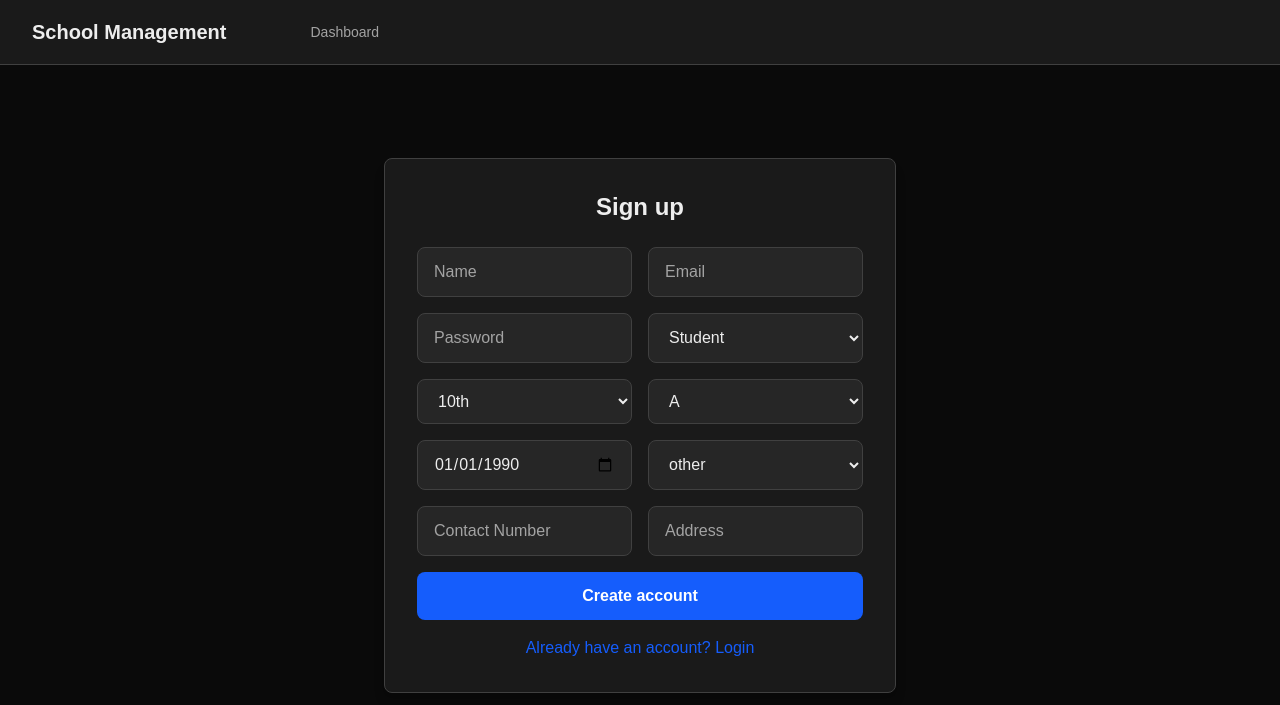
it: Authentication E2E Tests › Signup Page › should show teacher-specific fields when teacher role is selected
Select "Teacher" in the dropdown with id "role" at [756, 338], box [648,313,863,363]
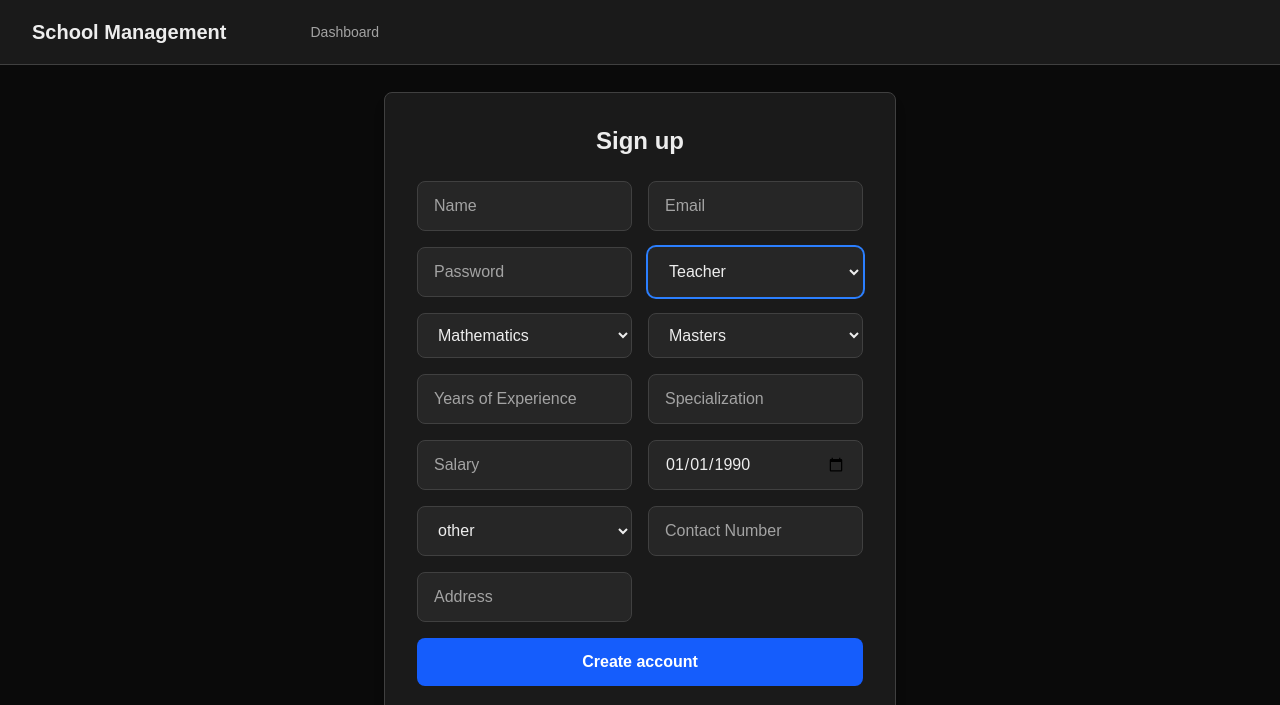
Now the dropdown with id "department" is shown, box [417,313,632,358]
Now the 3rd dropdown is shown, box [648,313,863,358]
Now the field with id "experience" is shown, box [417,374,632,424]
